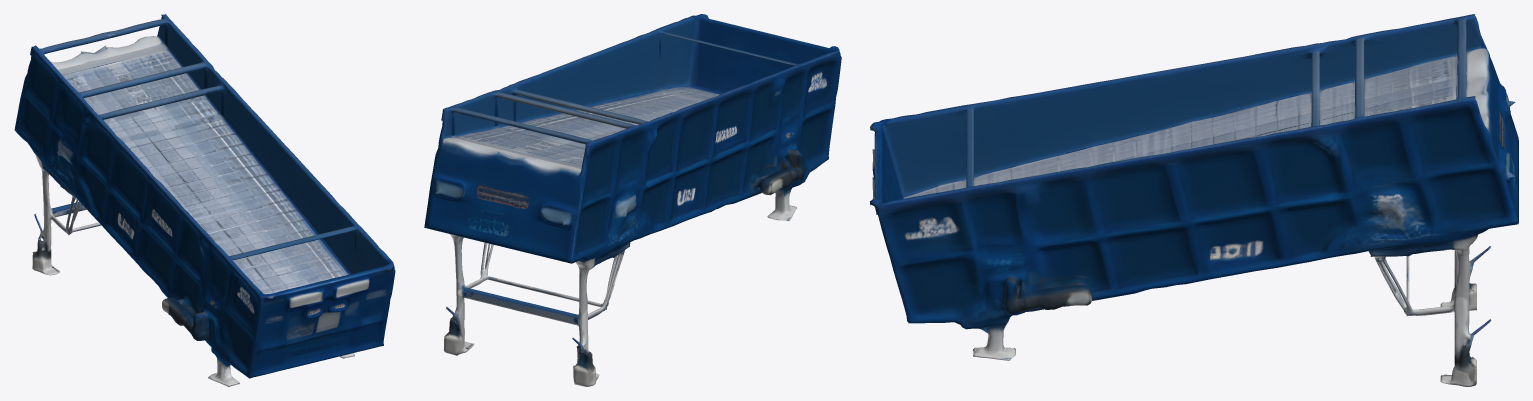
File: Ballistic_Premium_base_basic_pbr.fbx
3 views of the same model, side by side, from view 1: azimuth 30°, elevation 25°; view 2: azimuth 150°, elevation 25°; view 3: azimuth 270°, elevation 25° (orthographic). The views are drawn at different scales.
Visible parts, largest first — view 1: model; view 2: model; view 3: model.
Boxes of the visible parts, x1=… form: model: x1=14, y1=14, x2=395, y2=386; model: x1=424, y1=14, x2=841, y2=386; model: x1=870, y1=14, x2=1518, y2=386.
Bounding box in the file's own units: 75.3 × 91.65 × 187.
1 material, 1 textured.
